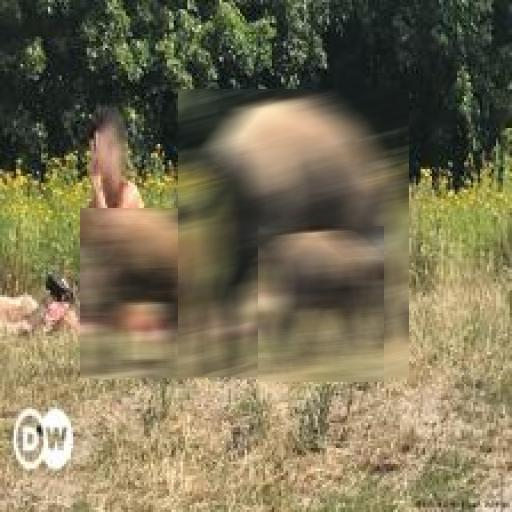Pig: (178, 89, 409, 377), (80, 208, 210, 378), (258, 226, 384, 382)
